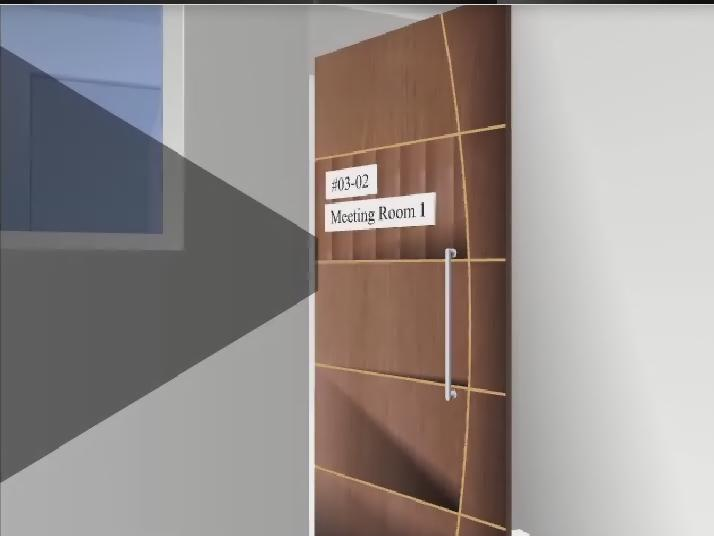door: (315, 5, 511, 536)
